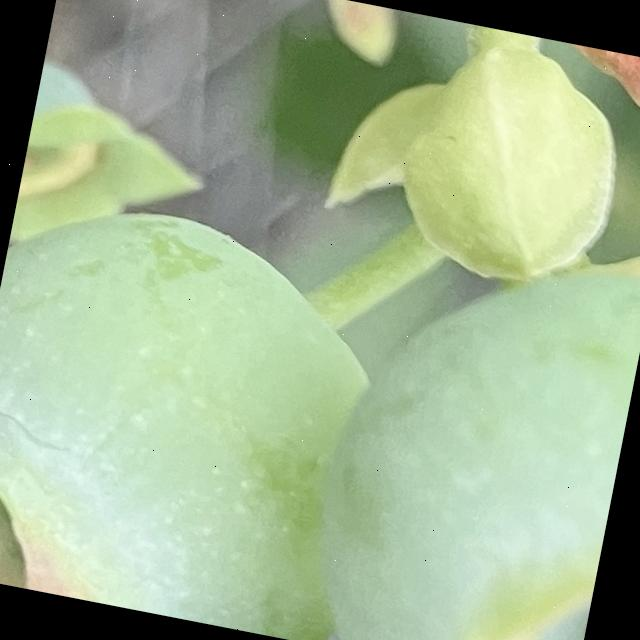Blueberries: (0, 178, 426, 640), (282, 205, 640, 640)
